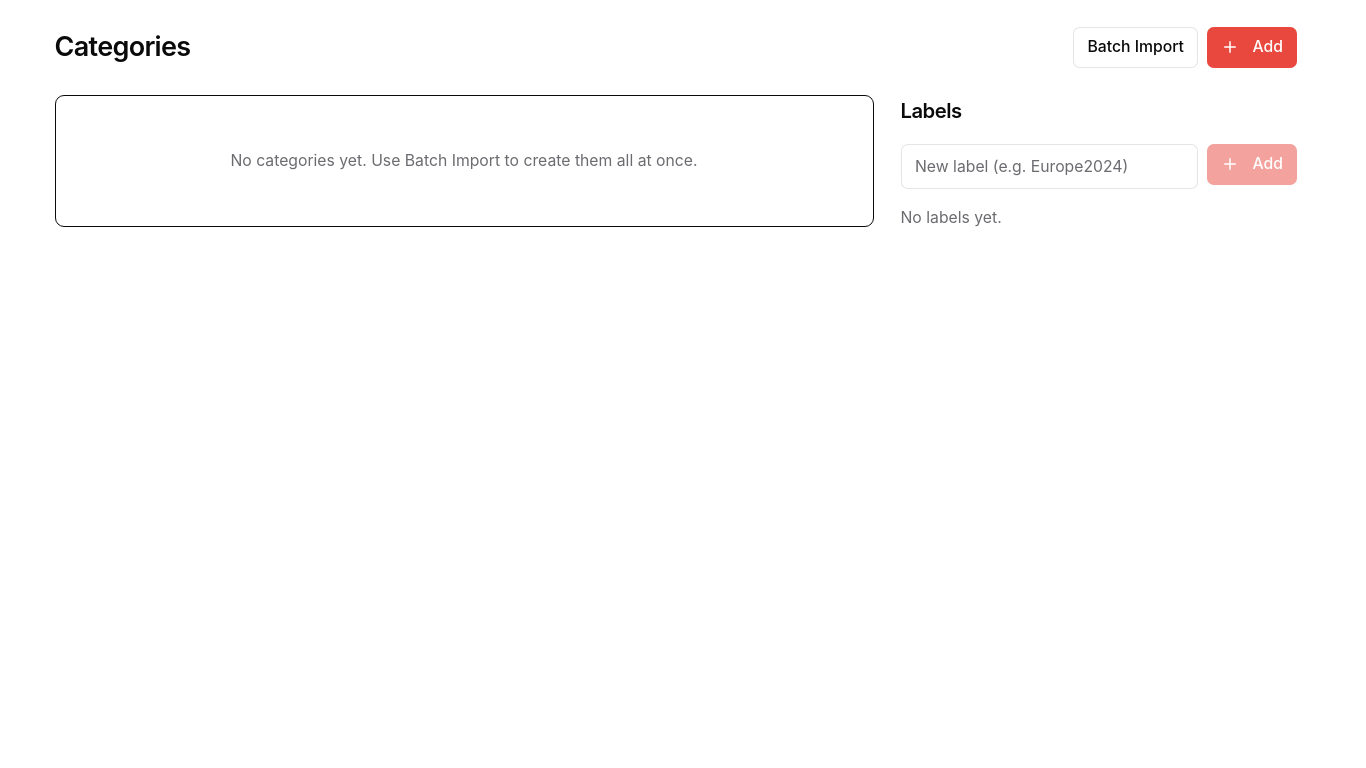
Test: Categories accessibility › names the optional parent selector
This screenshot has width=1366, height=768.
Click the 1st button "Add" at (1252, 47), box [1208, 27, 1296, 68]
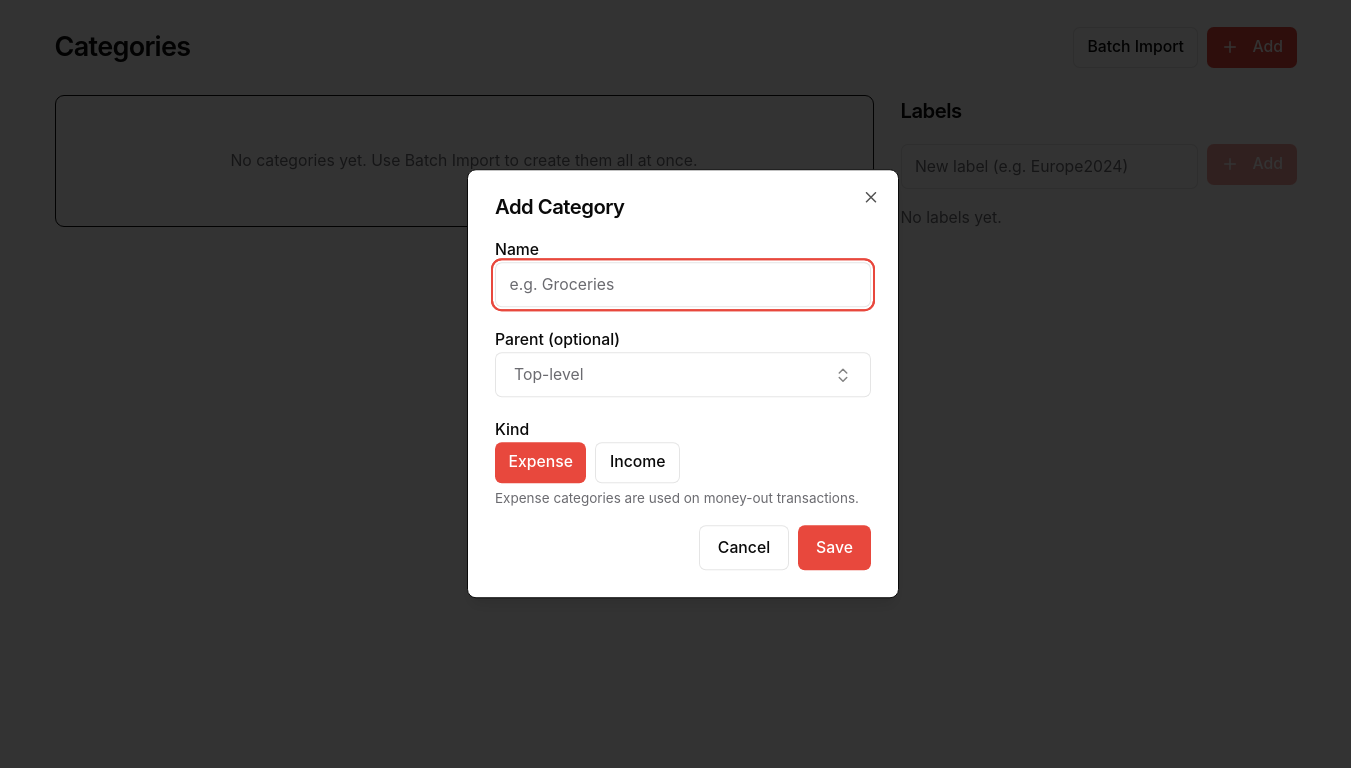
expect the dropdown named "Parent (optional)" is shown: met, box [495, 352, 871, 398]
